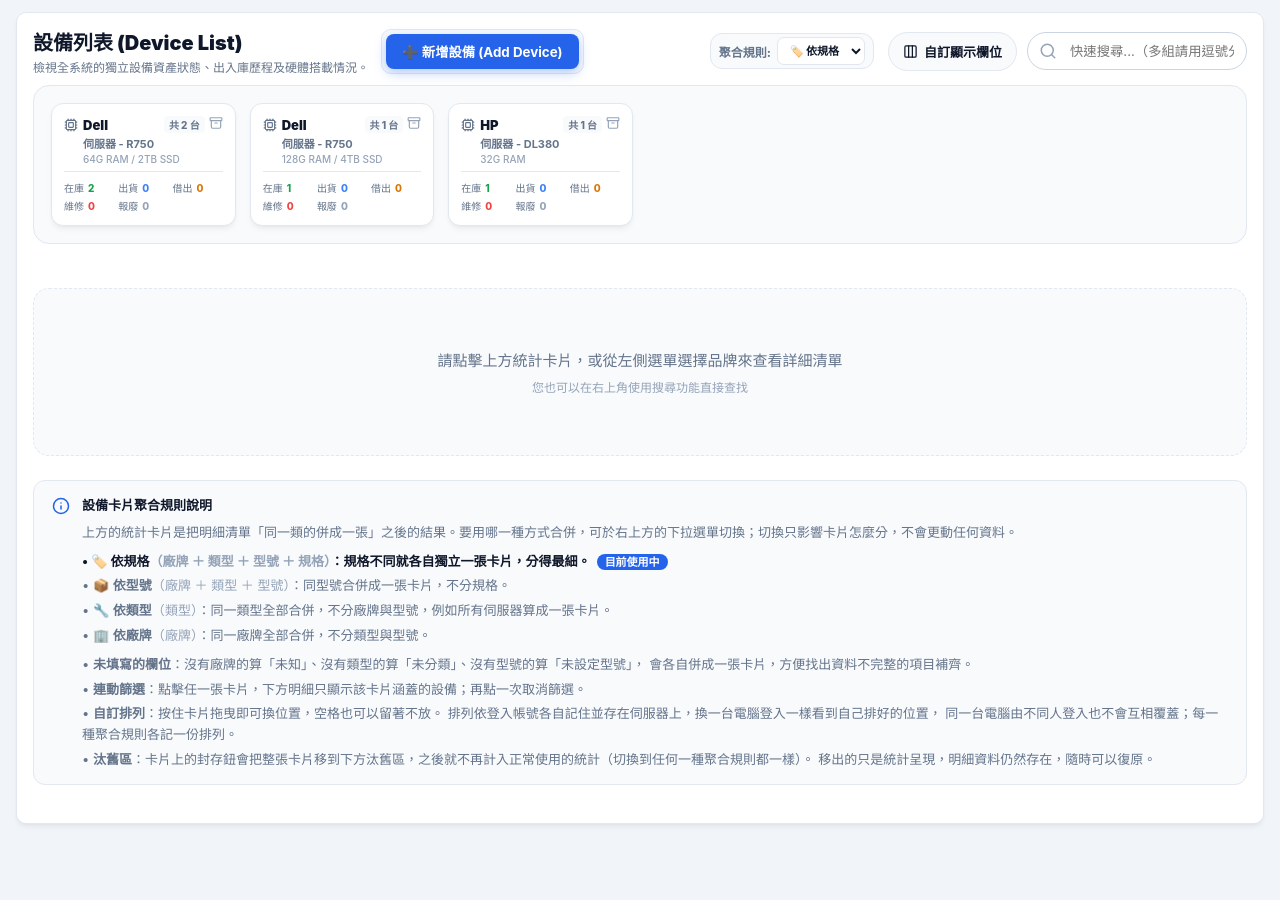
設備、硬體與耗材卡片依「廠牌+類型+型號+規格」聚合測試 › DeviceList 點擊「依型號」切換時，同一型號應合併為單一卡片
This screenshot has width=1280, height=900.
Check: the heading "設備列表 (Device List)" is shown, box [33, 31, 242, 55]
Select "📦 依型號" in the dropdown labelled "聚合規則:": coordinates (821, 51) [777, 37, 865, 65]
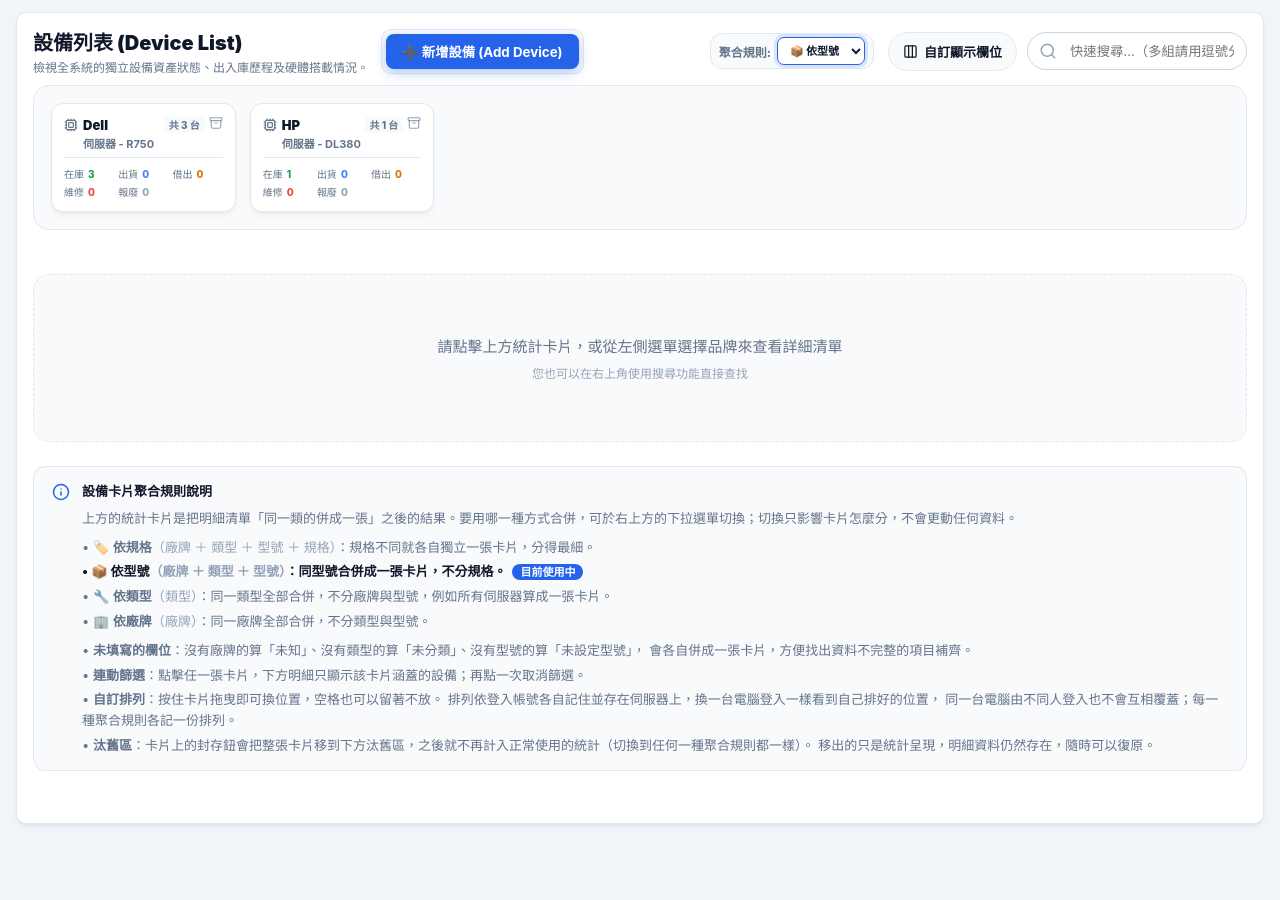
Check: the text "共 3 台" is shown, box [164, 116, 205, 133]
